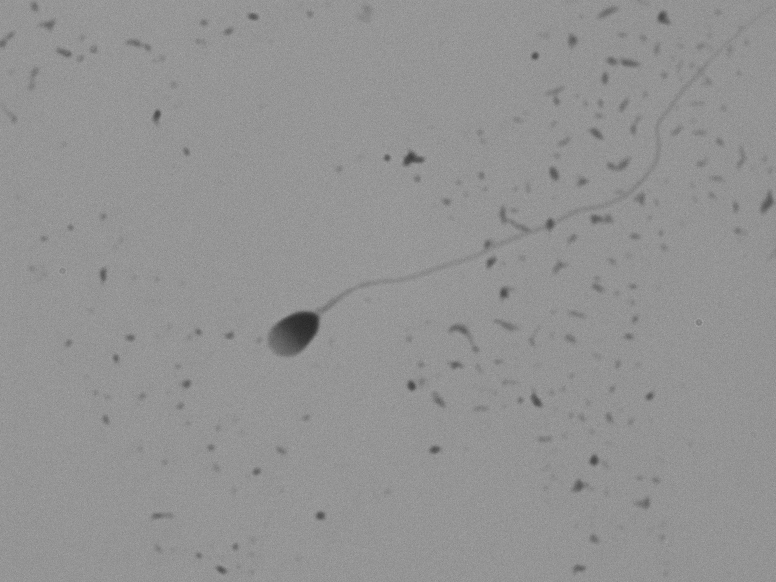Normal: (214, 48, 754, 385)
